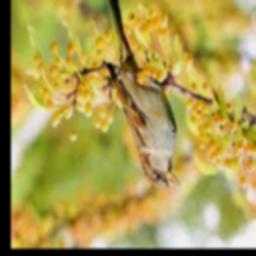Sparrow: (107, 0, 180, 190)
